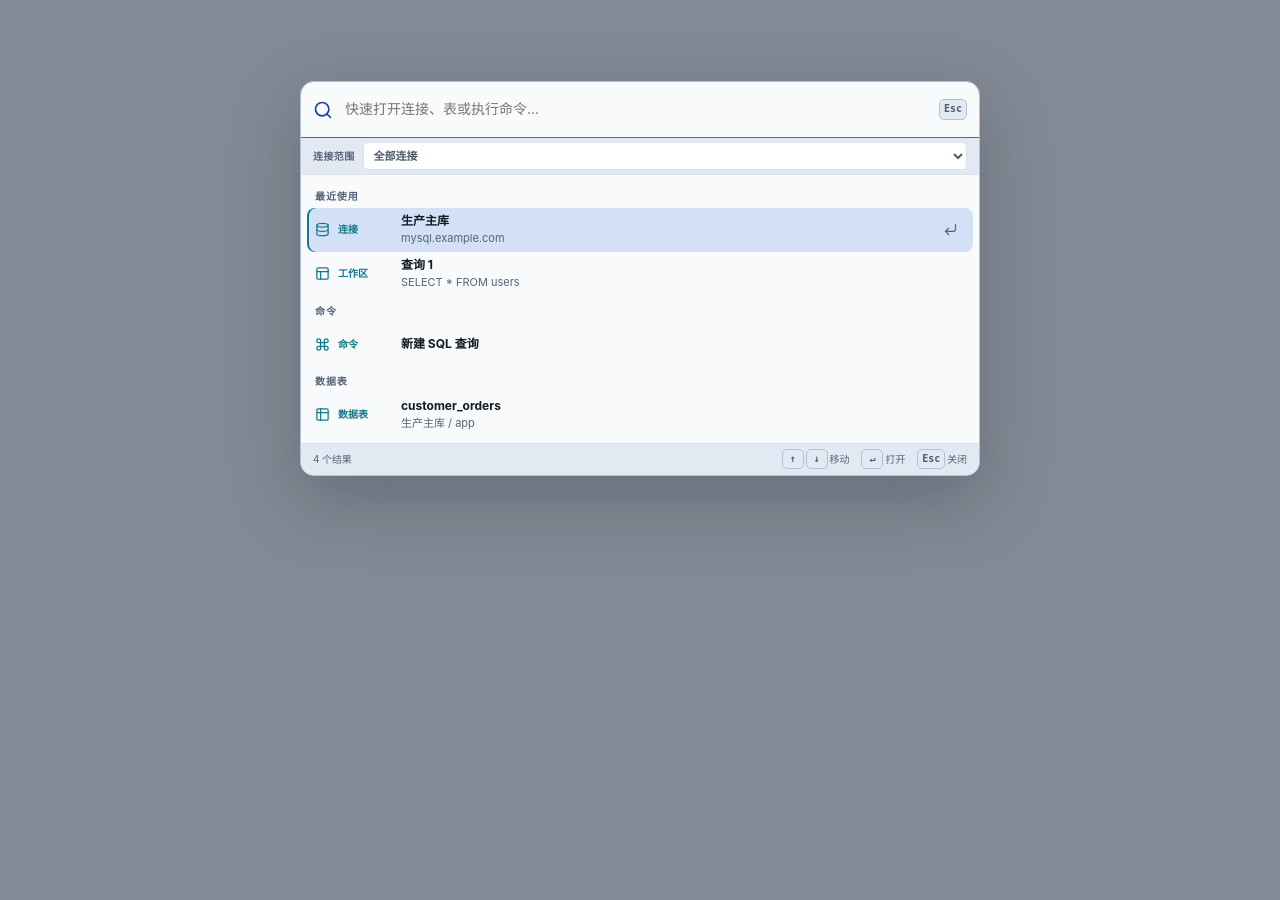
Test: CommandPalette › renders an accessible searchable modal
Expected: the dialog named "快速打开" is shown, [300, 81, 980, 476]
Expected: the element "最近使用" is shown, [307, 181, 973, 296]
Select "生产主库 · mysql.example.com" in the dropdown named "按连接过滤" at (665, 156), box [363, 142, 967, 170]
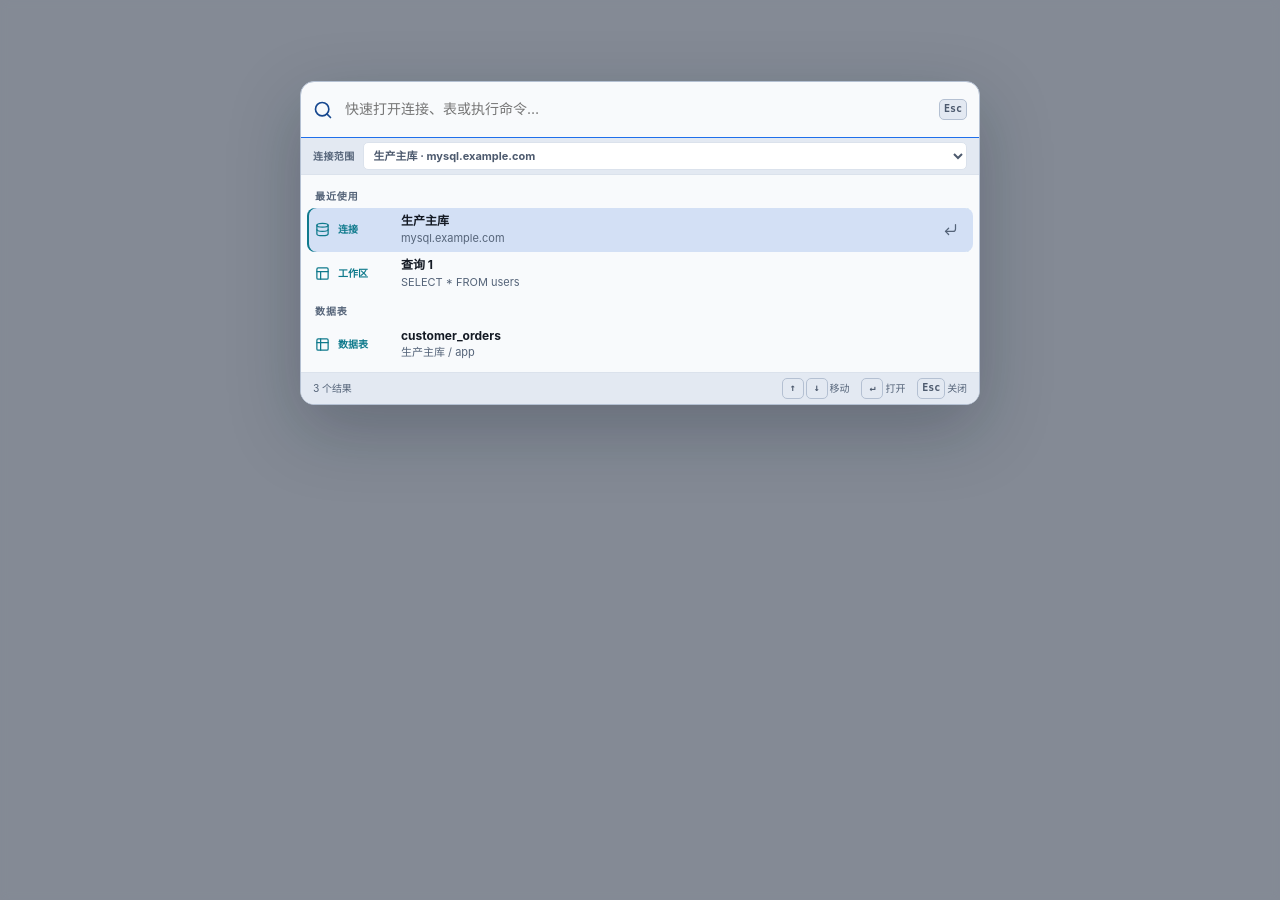
Expected: the option "连接 生产主库 mysql.example.com" is shown, [307, 208, 973, 252]
Now the option "新建 SQL 查询" is gone
Type "不存在" into the dropdown named "搜索连接" at (638, 109), box [343, 98, 933, 121]
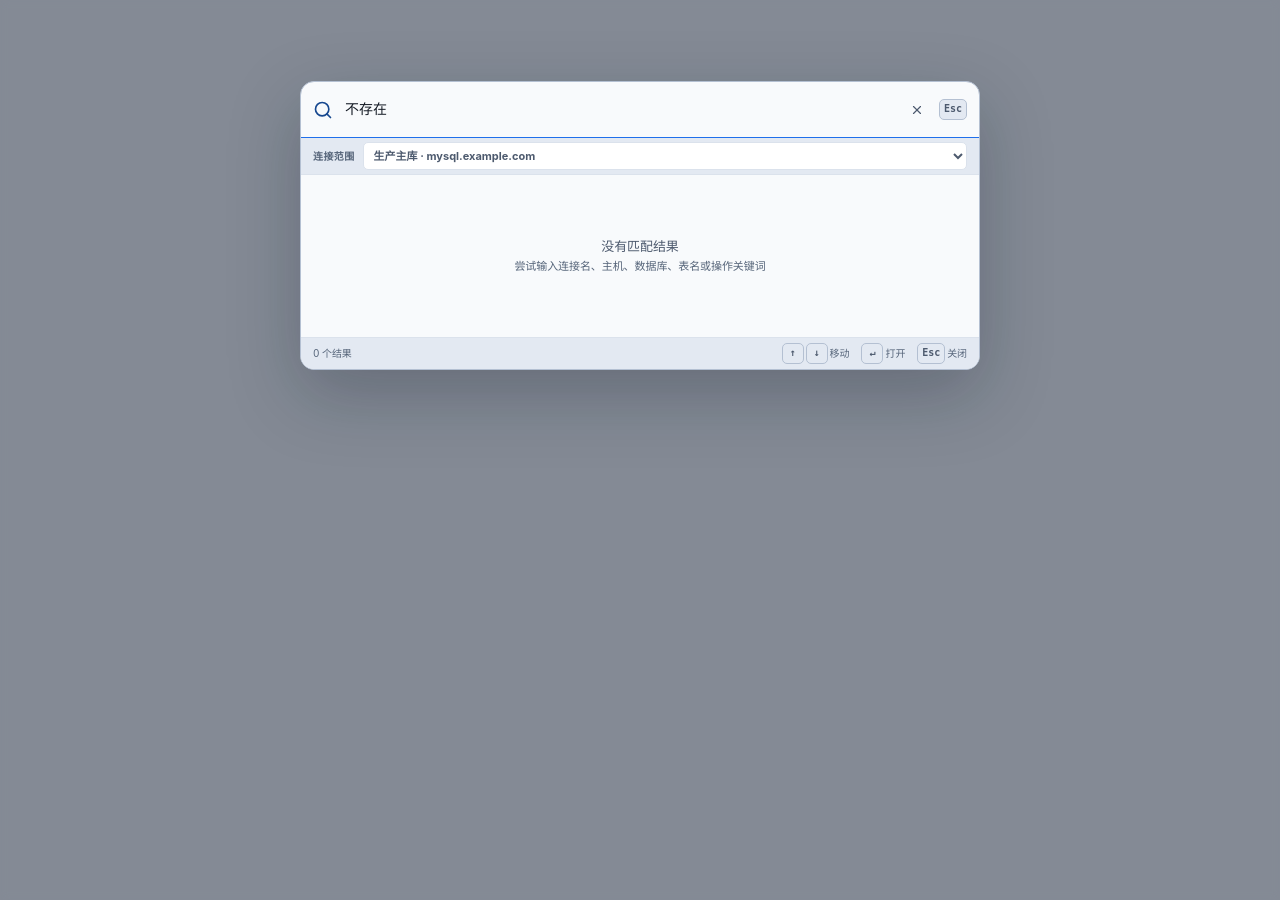
Now the message shows "没有匹配结果", box [601, 238, 679, 254]
Now no options are shown
